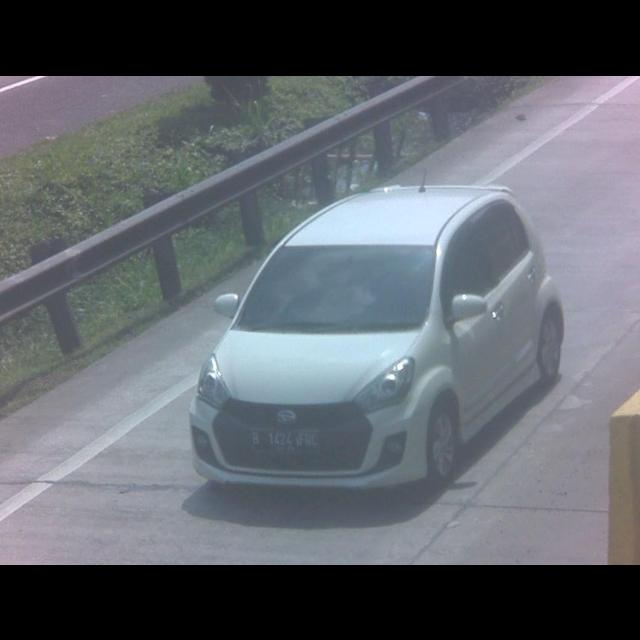plate: (250, 426, 320, 452)
